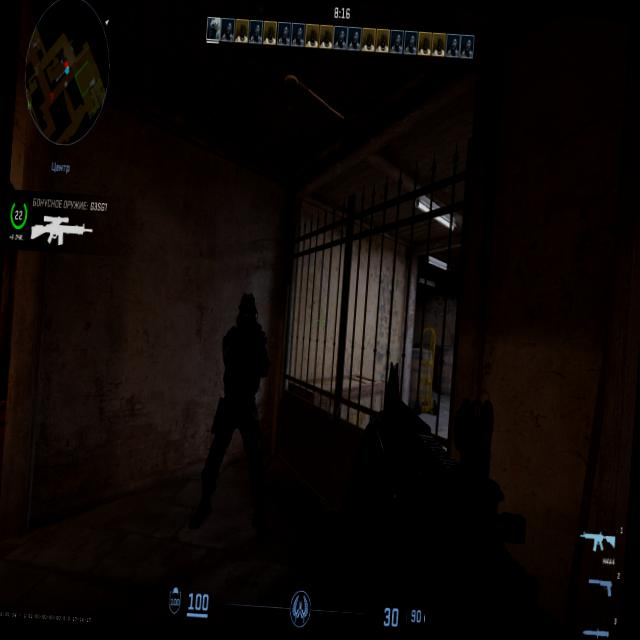CT: (240, 302, 254, 339)
CT_heat: (222, 296, 268, 489)
